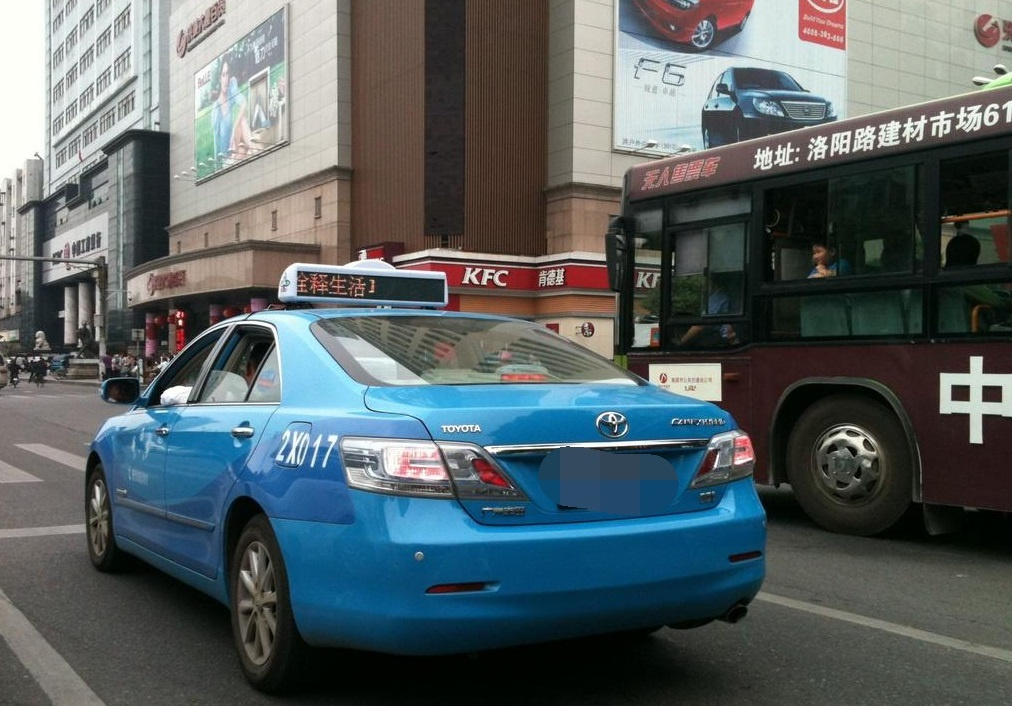taxi: (76, 243, 757, 676)
